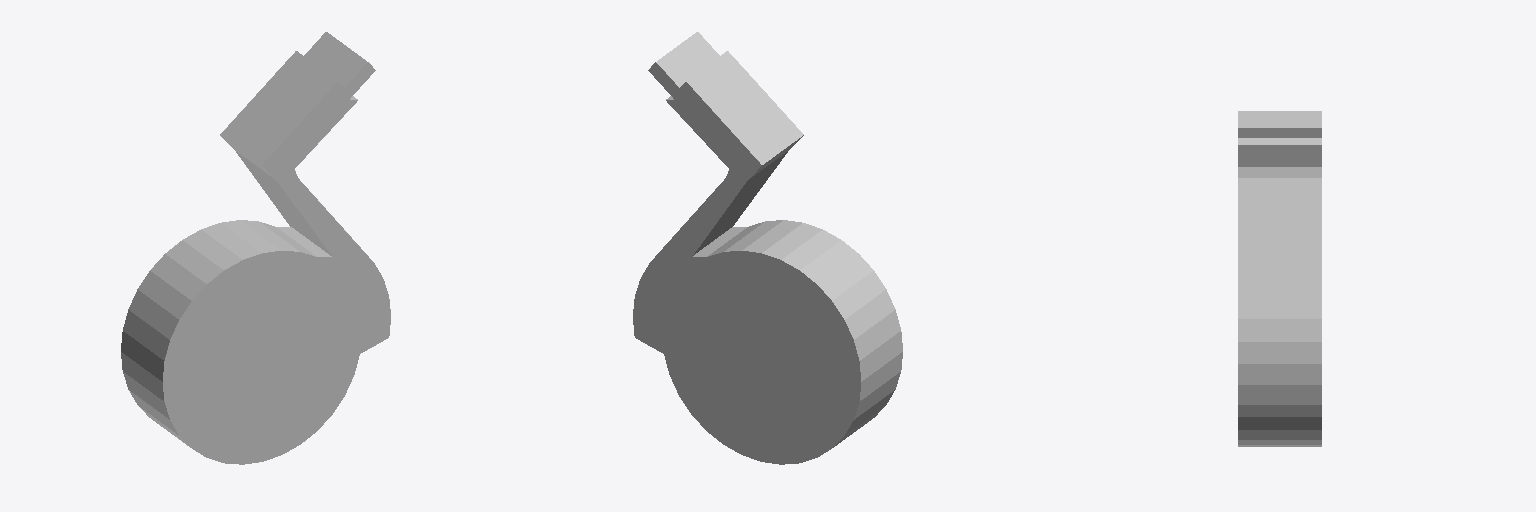
Rendered from lock.obj.
The picture shows the model from 3 angles: view 1: azimuth 30°, elevation 25°; view 2: azimuth 150°, elevation 25°; view 3: azimuth 270°, elevation 25°; orthographic projection.
Parts seen in each view (by area): view 1: Cylinder; view 2: Cylinder; view 3: Cylinder.
Boxes of the visible parts, box(x1,y1,x2,y2) form: Cylinder: box(121, 32, 390, 464); Cylinder: box(633, 32, 902, 464); Cylinder: box(1238, 111, 1321, 446).
Bounding box in the file's own units: 0.4108 × 0.6426 × 0.1302.